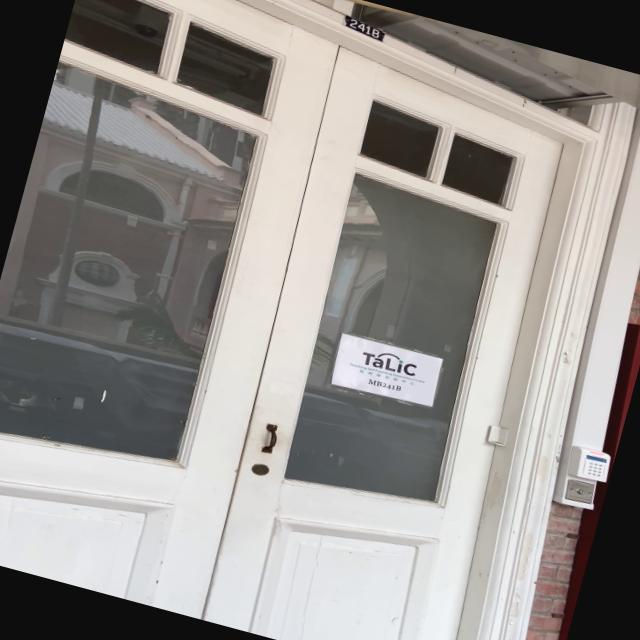room241b: (338, 11, 389, 44)
